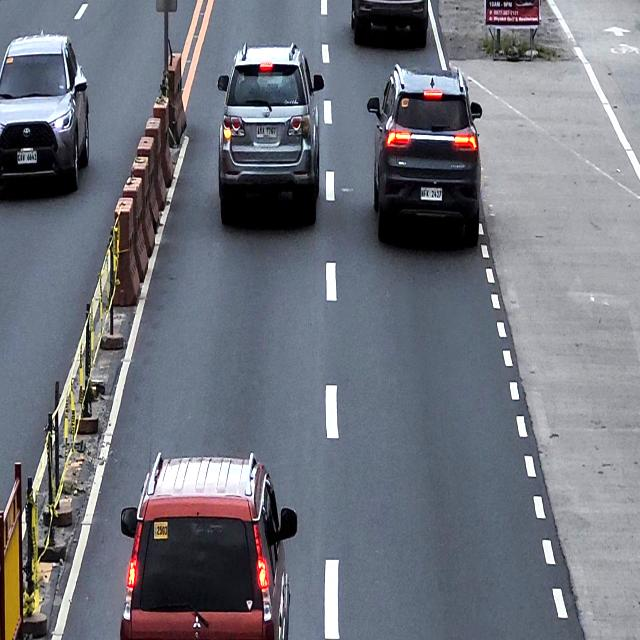Car: (119, 453, 300, 640), (367, 61, 484, 249), (218, 43, 324, 228), (0, 30, 92, 196), (351, 0, 429, 48)
License-Plate: (254, 122, 278, 142), (420, 184, 443, 202), (15, 149, 38, 166)
